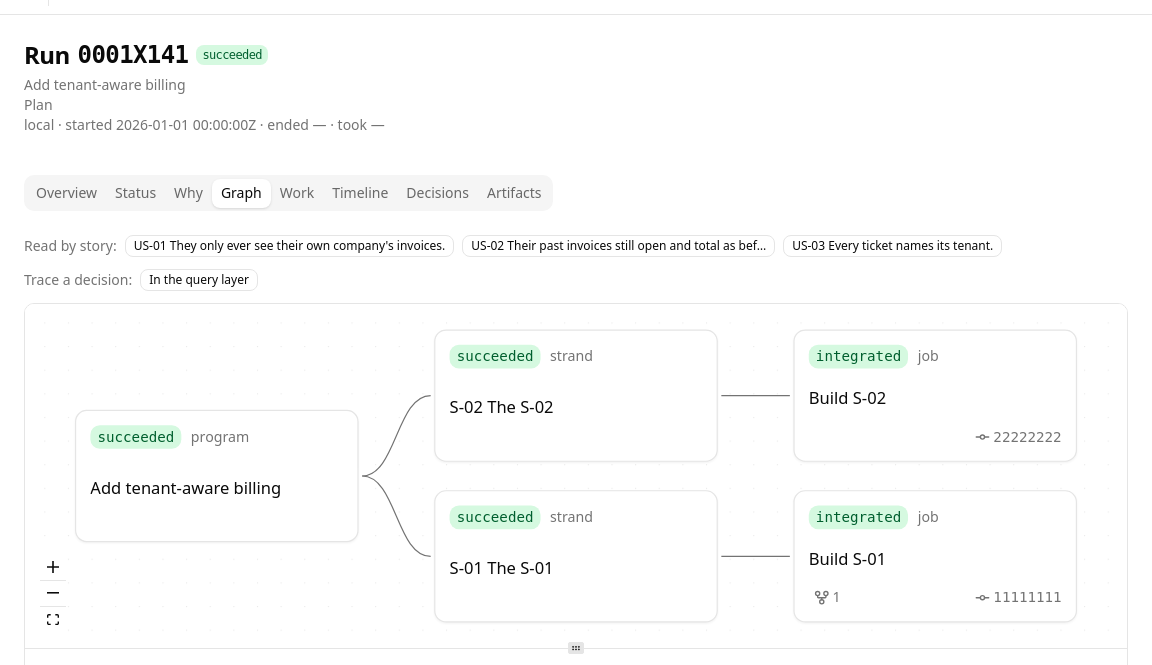
the why, in the Studio (SC-P14-08) › opens a node's detail and a decision's page with the stories they serve
Click the element showing "integrated job Build S-02 22222222": (935, 396) [793, 330, 1077, 462]
(page scrolled)
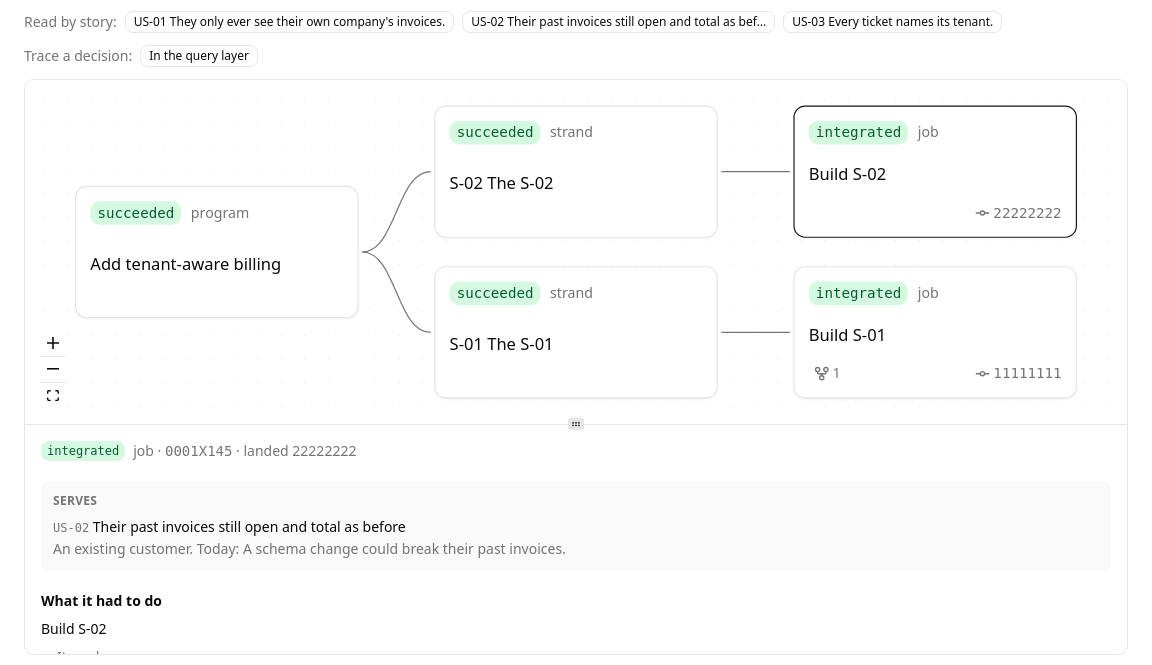
Result: the text "Their past invoices still open and total as before" is shown at [93, 517, 406, 536]
